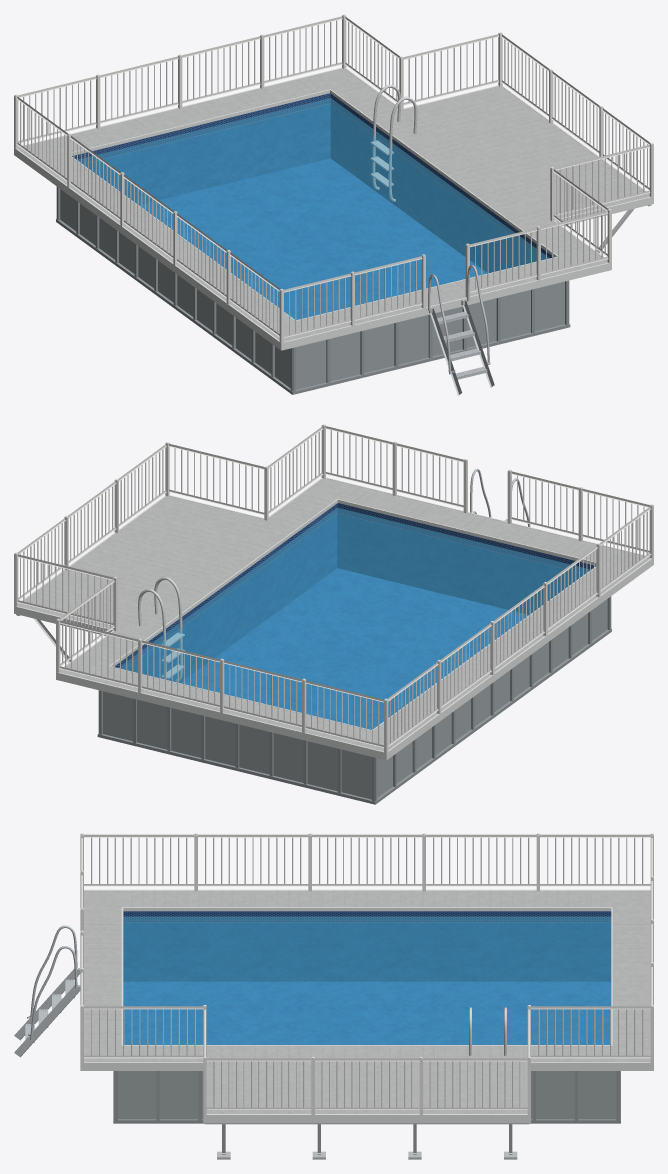
File: kayak-pool-16x24-gray-t-ag-fence.09f5f89aa2.glb
The picture shows the model from 3 angles, top to bottom: view 1: azimuth 30°, elevation 25°; view 2: azimuth 150°, elevation 25°; view 3: azimuth 270°, elevation 25°; orthographic projection. The views are drawn at different scales.
Parts seen in each view (by area): view 1: water, deck, fence, liner_floor, liner_wall, wall, fascia, upright, ladder, steel; view 2: water, deck, fence, liner_floor, liner_wall, wall, fascia, upright, steel; view 3: water, deck, liner_wall, liner_floor, fence, fascia, wall, ladder, upright, stud.
Part boxes in pixels (x1,y1,x2,y2): water: (78, 98, 549, 319); deck: (17, 68, 649, 341); fence: (14, 14, 653, 343); liner_floor: (139, 158, 486, 319); liner_wall: (72, 93, 553, 272); wall: (60, 189, 564, 389); fascia: (14, 67, 653, 350); upright: (56, 186, 570, 394); ladder: (428, 265, 494, 395); steel: (370, 85, 417, 201); water: (118, 507, 589, 729); deck: (18, 478, 650, 751); fence: (14, 424, 653, 752); liner_floor: (180, 568, 528, 729); liner_wall: (115, 503, 595, 682); wall: (103, 599, 607, 799); fascia: (14, 477, 653, 760); upright: (97, 596, 611, 804); steel: (138, 577, 184, 681); water: (123, 916, 611, 1044); deck: (84, 890, 650, 1113); liner_wall: (123, 911, 611, 981); liner_floor: (123, 981, 611, 1044); fence: (80, 833, 653, 1114); fascia: (80, 889, 653, 1122); wall: (118, 1071, 616, 1119); ladder: (14, 925, 80, 1057); upright: (113, 1071, 620, 1123); stud: (205, 1123, 529, 1159).
Bounding box in the file's own units: 7.93 × 2.15 × 9.52.
Materials: 11 (3 with a texture image).
